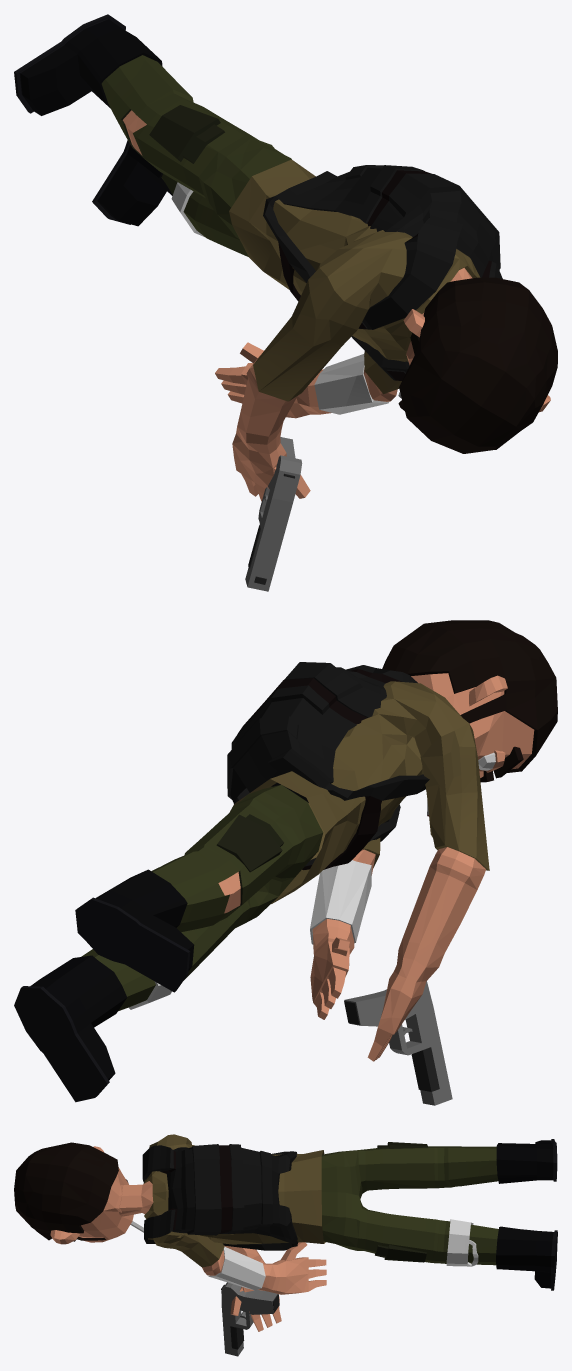
The model's file is frame_0006.obj.
The picture shows the model from 3 angles, top to bottom: view 1: azimuth 30°, elevation 25°; view 2: azimuth 150°, elevation 25°; view 3: azimuth 270°, elevation 25°; orthographic projection. The views are drawn at different scales.
Parts seen in each view (by area): view 1: Body, Gun; view 2: Body, Gun; view 3: Body, Gun.
Boxes of the visible parts, box(x1,y1,x2,y2) form: Body: box(14, 14, 557, 501); Gun: box(245, 437, 302, 591); Body: box(14, 620, 557, 1102); Gun: box(344, 981, 452, 1105); Body: box(14, 1134, 557, 1331); Gun: box(221, 1282, 279, 1356).
Bounding box in the file's own units: 1.35 × 2.12 × 4.15.
